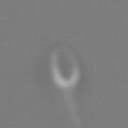normal: (58, 89, 89, 128)
